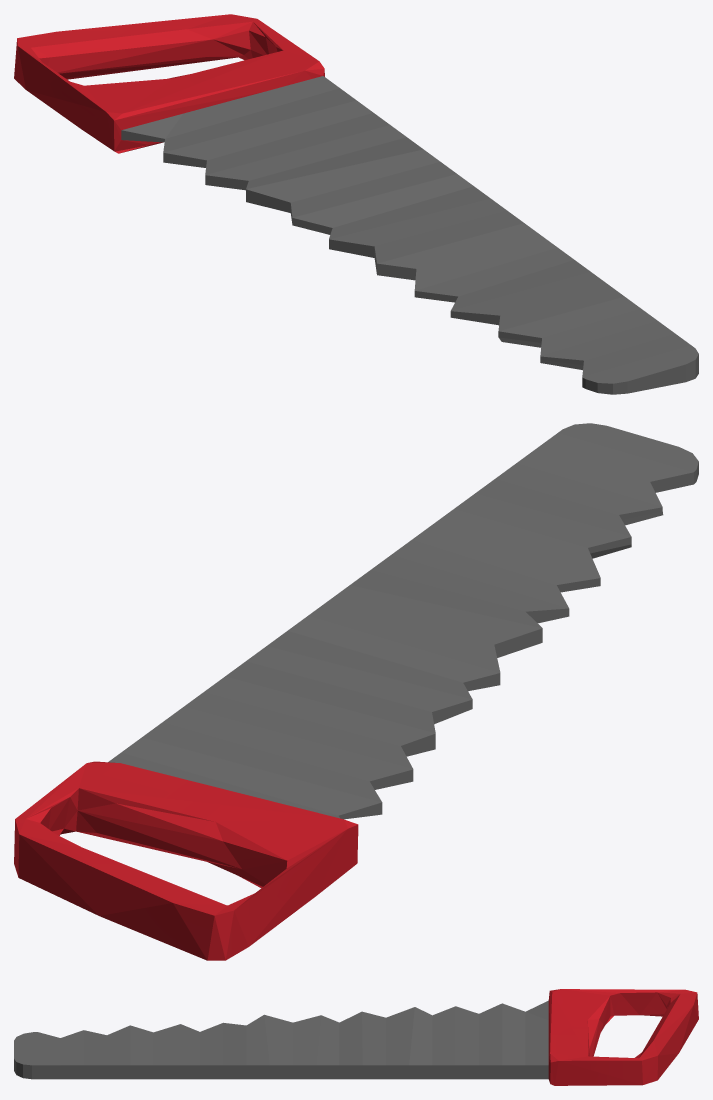
The model's file is Saw.fbx.
3 views of the same model, one above another, from view 1: azimuth 30°, elevation 25°; view 2: azimuth 150°, elevation 25°; view 3: azimuth 270°, elevation 25° (orthographic). The views are drawn at different scales.
Visible parts, largest first — view 1: Saw; view 2: Saw; view 3: Saw.
Boxes of the visible parts, <box> form: Saw: <box>14,14,698,394</box>; Saw: <box>14,423,698,960</box>; Saw: <box>14,989,698,1085</box>.
Bounding box in the file's own units: 0.1197 × 0.0207 × 0.482.
